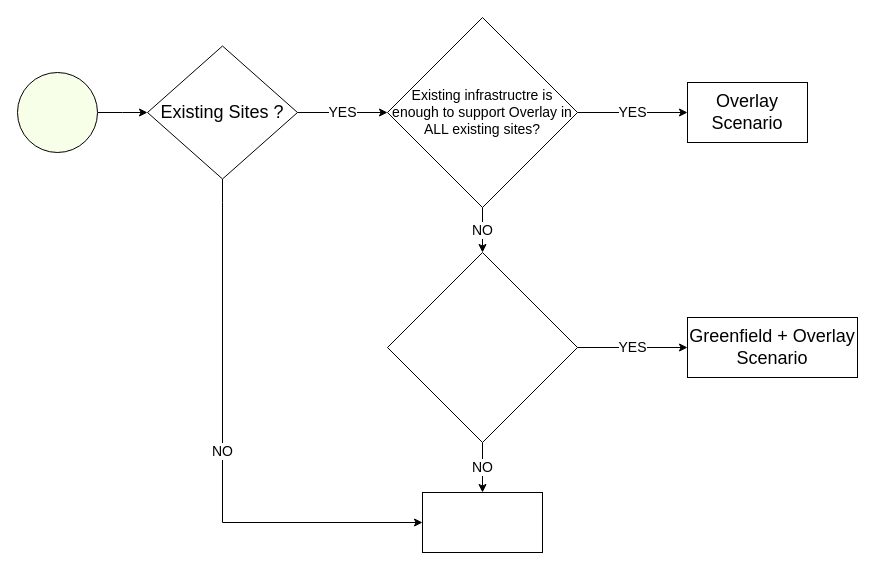
Some shapes in this 875 by 570 pixel diagram are drawn without their labels. The shapes that lost their labels are listed below. From the top down, each one's centre as x and y in pixels, then its label:
At point (482, 347): "Existing infrastructre is enough to support Overlay in SOME existing sites?".
At point (482, 522): "Greenfield Scenario".
